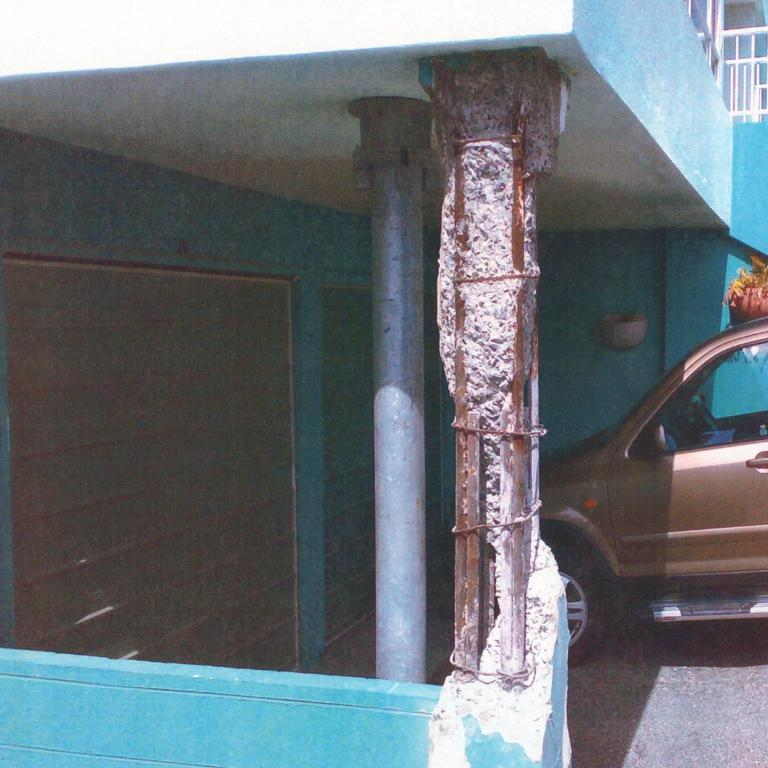spalling: (423, 48, 566, 691)
